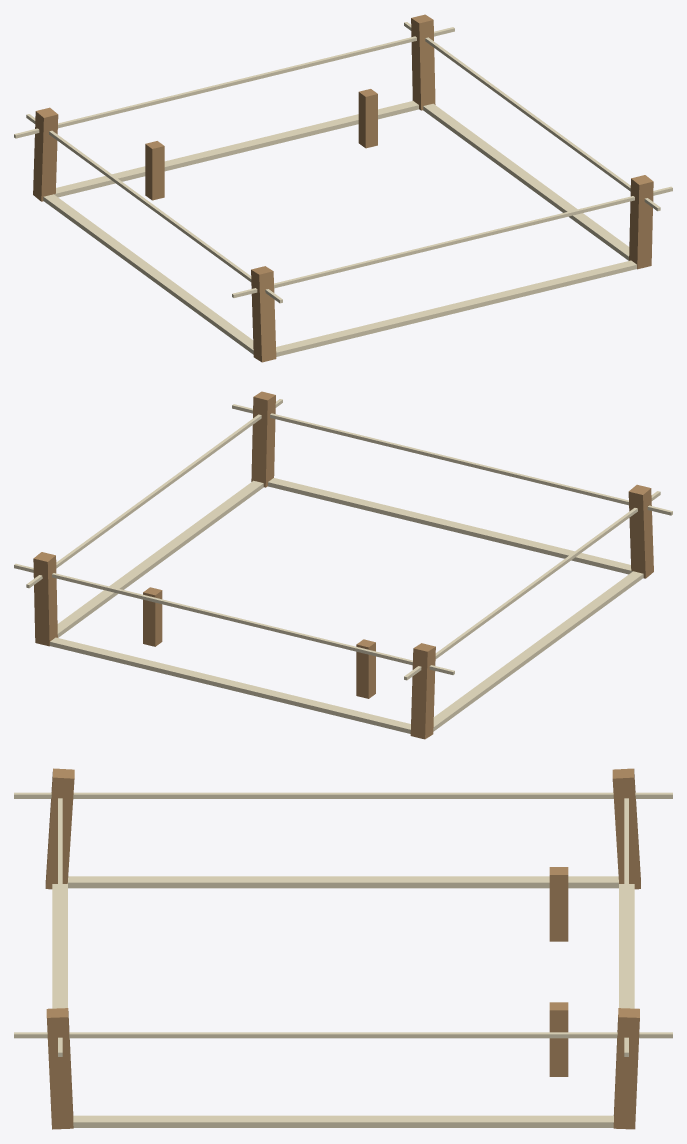
File: planned.glb
The picture shows the model from 3 angles, top to bottom: view 1: azimuth 30°, elevation 25°; view 2: azimuth 150°, elevation 25°; view 3: azimuth 270°, elevation 25°; orthographic projection. The views are drawn at different scales.
Visible parts, largest first — view 1: string_lines, stakes; view 2: string_lines, stakes; view 3: string_lines, stakes.
Part boxes in pixels (left/top/right/bottom): string_lines: left=14, top=22, right=672, bottom=356; stakes: left=33, top=14, right=653, bottom=362; string_lines: left=14, top=399, right=672, bottom=733; stakes: left=33, top=391, right=653, bottom=739; string_lines: left=14, top=792, right=672, bottom=1127; stakes: left=45, top=768, right=640, bottom=1129.
Size of the model in its own units: 2.14 by 0.4034 by 2.14.
